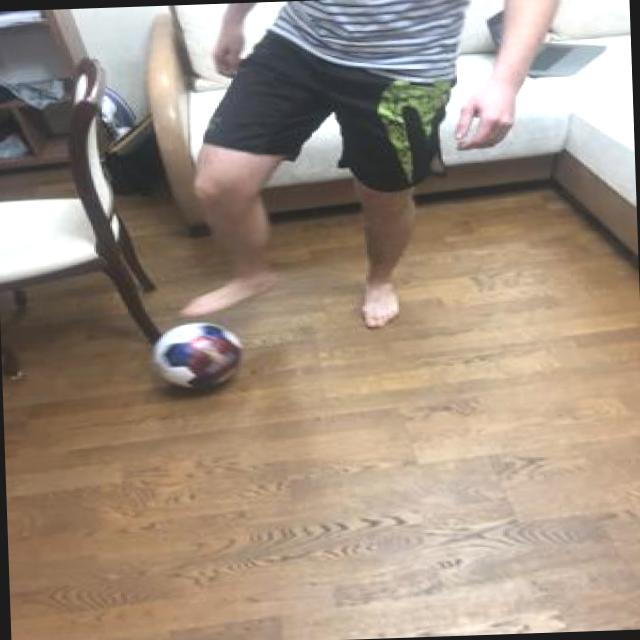Soccer Ball: (149, 316, 248, 394)
